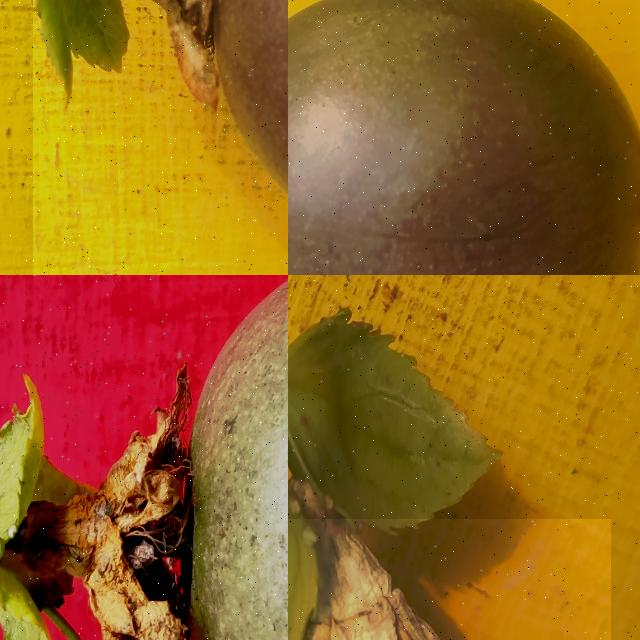Estado-1: (0, 283, 288, 640)
Estado-4: (288, 0, 640, 275)
